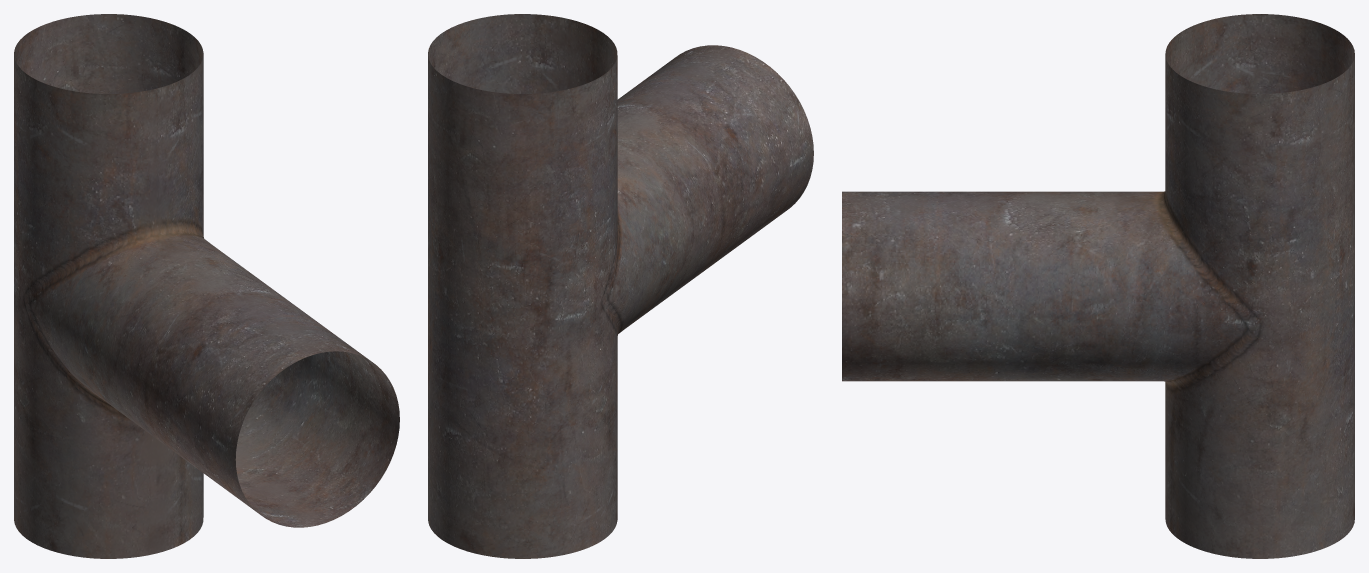
The model's file is SM_LargePipe_branch_01.fbx.
The picture shows the model from 3 angles, left to right: view 1: azimuth 30°, elevation 25°; view 2: azimuth 150°, elevation 25°; view 3: azimuth 270°, elevation 25°; orthographic projection.
Parts seen in each view (by area): view 1: SM_LargePipe_branch_01_LOD0; view 2: SM_LargePipe_branch_01_LOD0; view 3: SM_LargePipe_branch_01_LOD0.
Part boxes in pixels (x1,y1,x2,y2): SM_LargePipe_branch_01_LOD0: (14,14,399,558); SM_LargePipe_branch_01_LOD0: (428,14,813,558); SM_LargePipe_branch_01_LOD0: (842,14,1354,558).
Bounding box in the file's own units: 67.5 × 182 × 182.
